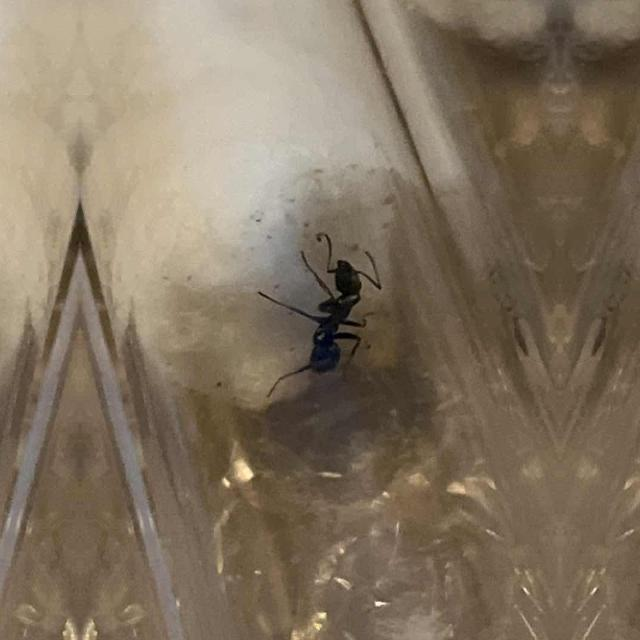Formica: (263, 231, 393, 387)
